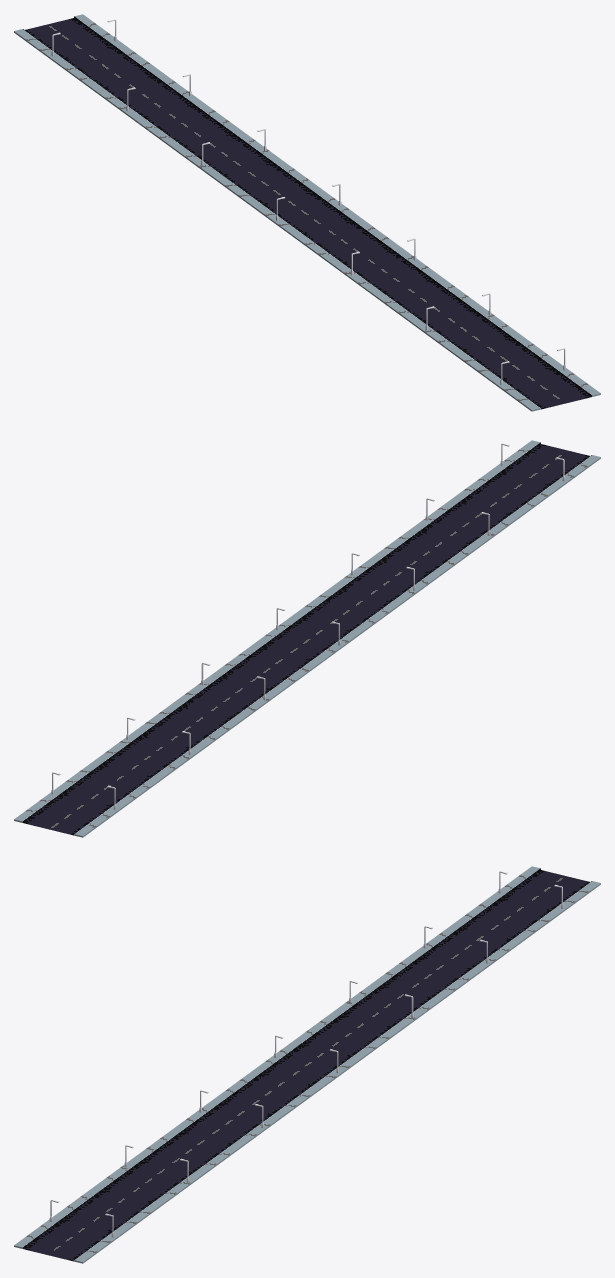
Rendered from NewRoad.fbx.
3 renders of one model, top to bottom at view 1: azimuth 30°, elevation 25°; view 2: azimuth 150°, elevation 25°; view 3: azimuth 330°, elevation 25°, orthographic.
Visible parts, largest first — view 1: Road; view 2: Road; view 3: Road.
Part boxes in pixels (bbox=[...]): Road: bbox=[14, 14, 600, 411]; Road: bbox=[14, 440, 600, 837]; Road: bbox=[14, 866, 600, 1263].
Bounding box in the file's own units: 200 × 64 × 2600.
